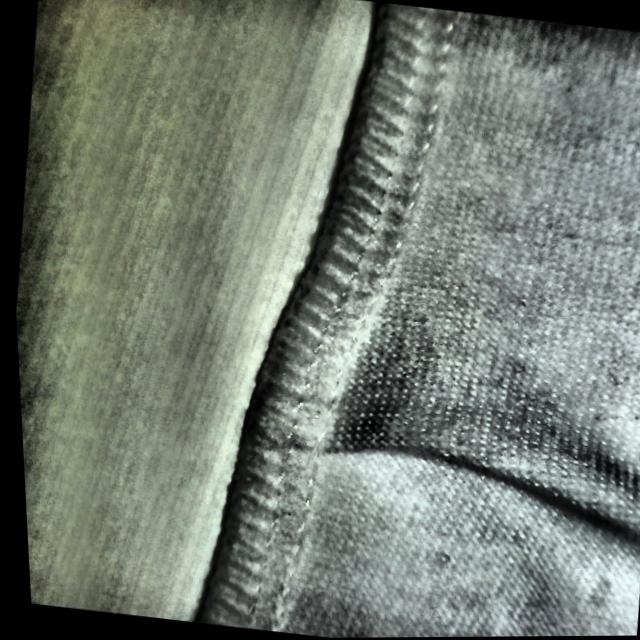seam: (225, 331, 574, 545)
